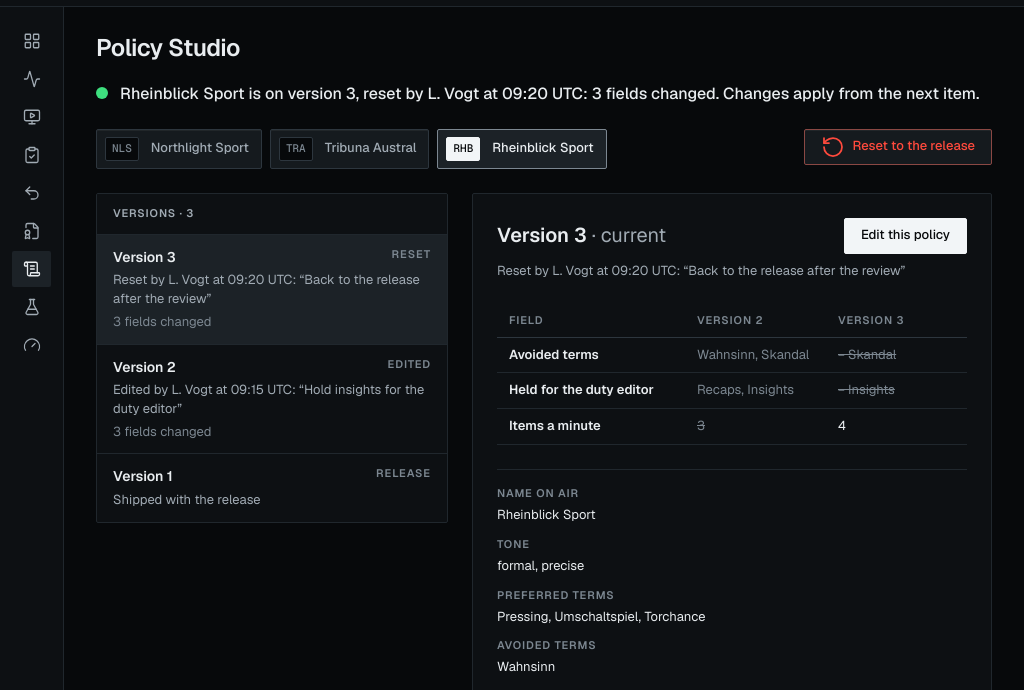
Test: PolicyStudio › refuses a part of an item a minute rather than rounding it
Expected: the list named "Versions" is shown, x1=97 y1=235 x2=447 y2=522
Click the button "Edit this policy".
click(905, 236)  # box x1=844 y1=218 x2=967 y2=254
(page scrolled)
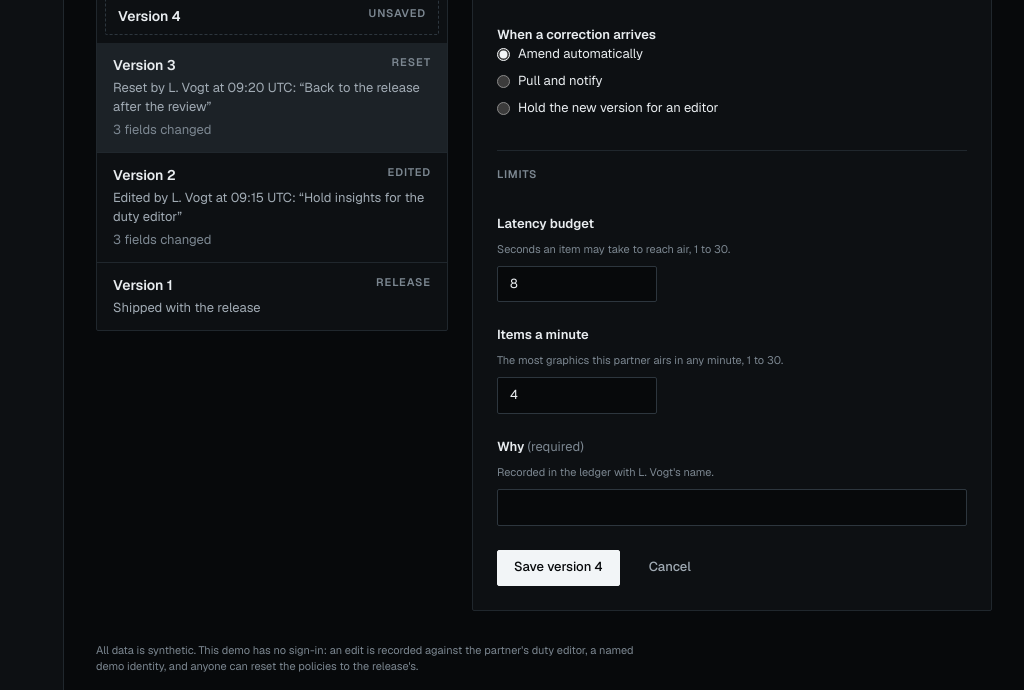
Replace the text in the number field labelled "Items a minute" with "2.5" at (577, 396), box x1=497 y1=377 x2=657 y2=414
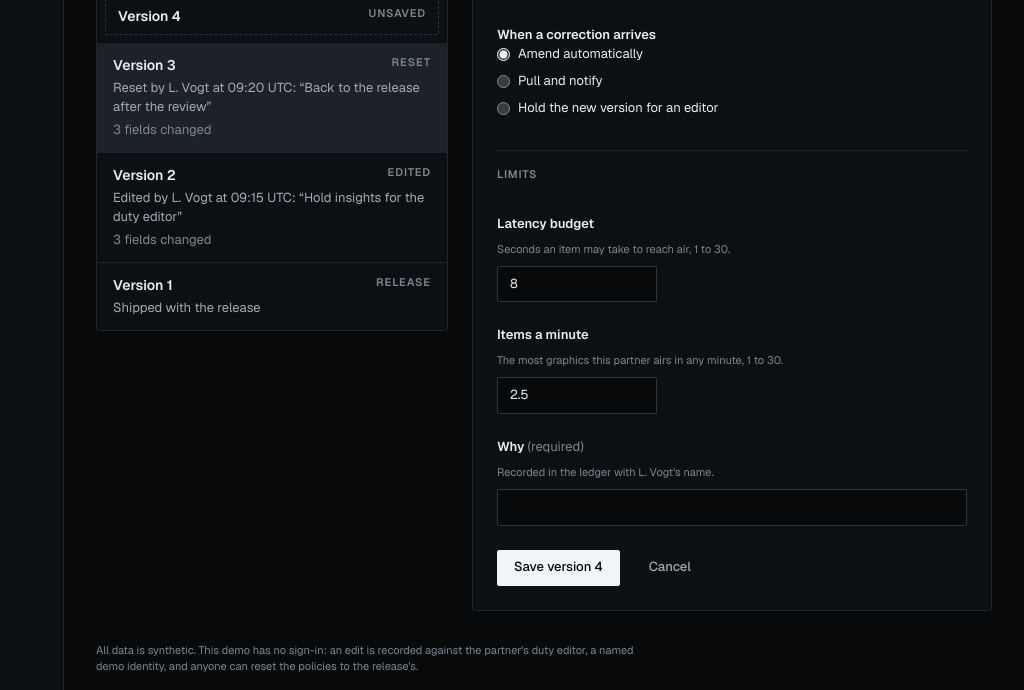
Type "Try" into the field labelled "Why (required)".
click(732, 507); type("Try")  # box x1=497 y1=489 x2=967 y2=526
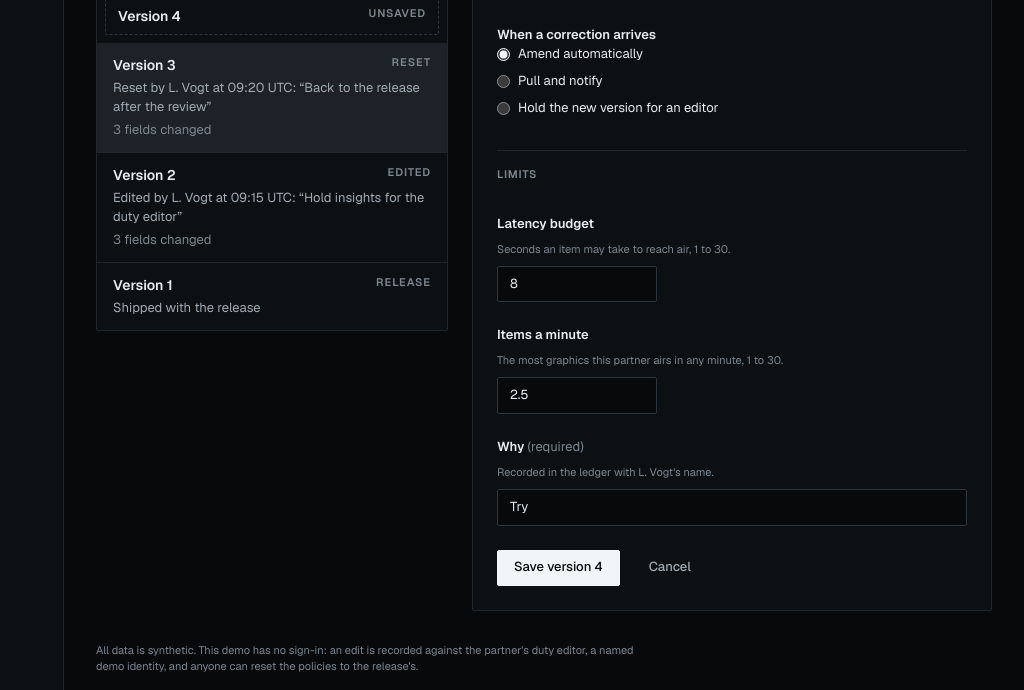
Click the button "Save version 4".
click(558, 568)  # box x1=497 y1=550 x2=620 y2=586
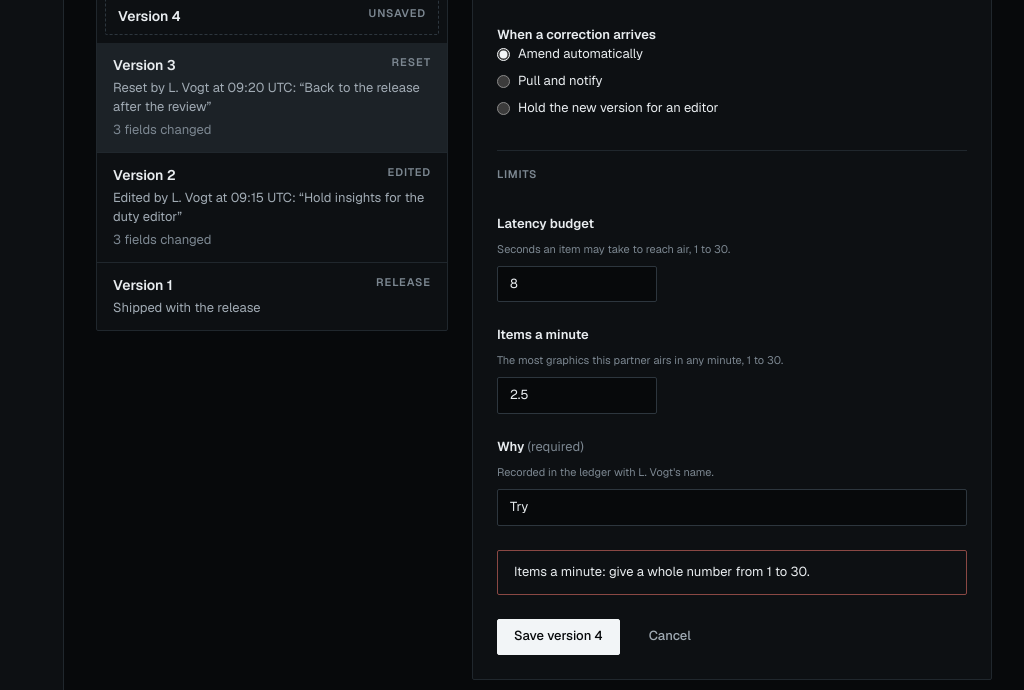
Expected: the message shows "Items a minute", x1=514 y1=563 x2=810 y2=580
